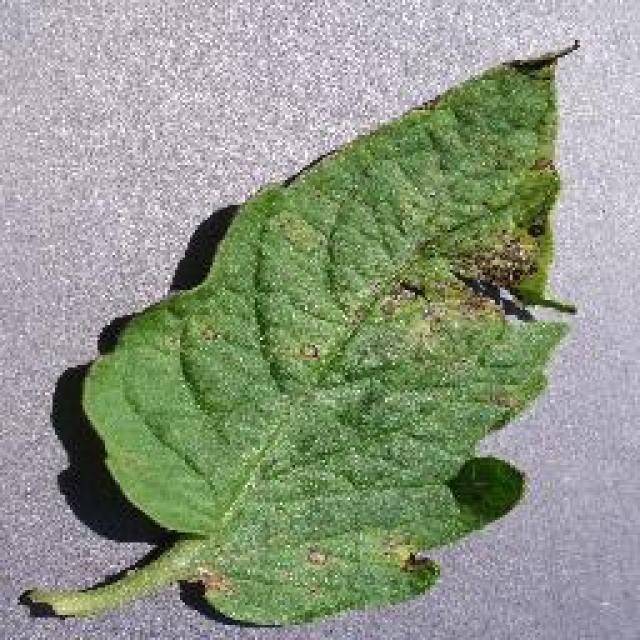Tomato target spot leaf: (81, 41, 584, 631)
